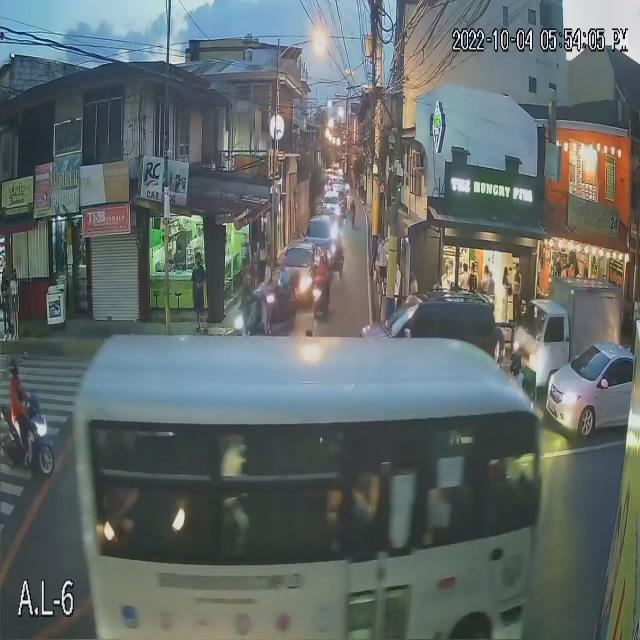helmet: (6, 353, 23, 378), (508, 351, 524, 375), (275, 253, 291, 268)
motorcycle: (0, 402, 58, 473), (266, 285, 301, 322), (311, 280, 334, 318)
rider: (7, 374, 37, 471), (274, 269, 294, 320), (314, 264, 330, 286)
